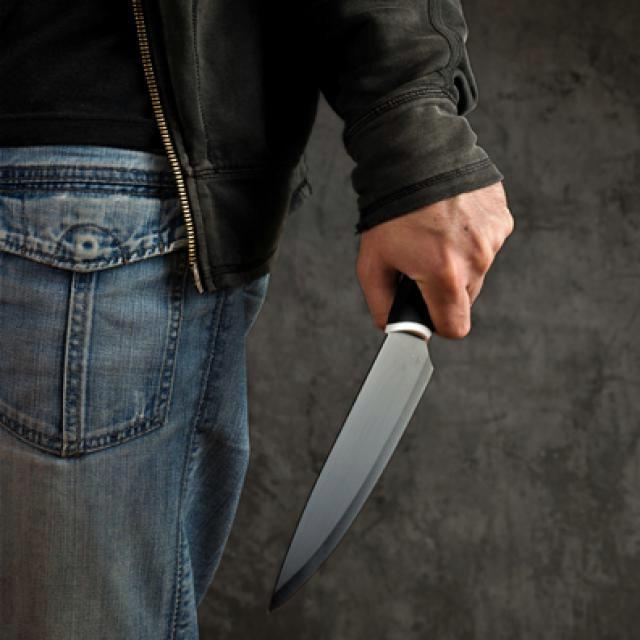Knife: (270, 275, 435, 609)
Knife_Handle: (255, 181, 517, 612)
